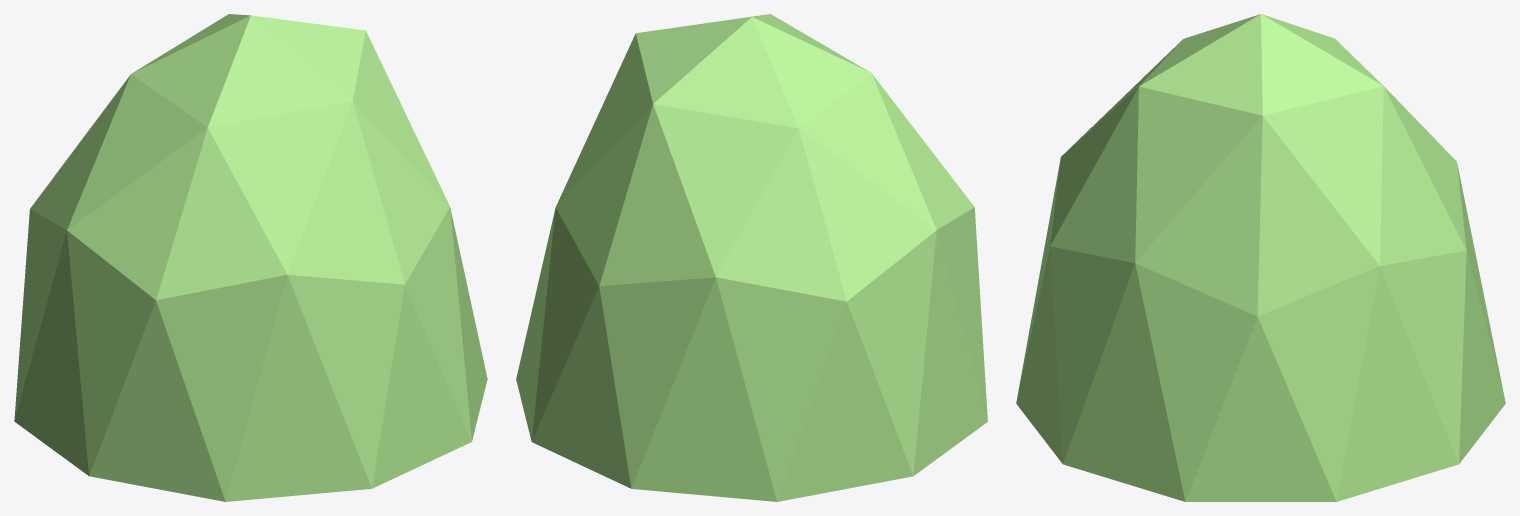
The model's file is Bush_h_m_04.fbx.
3 renders of one model, left to right at view 1: azimuth 30°, elevation 25°; view 2: azimuth 150°, elevation 25°; view 3: azimuth 270°, elevation 25°, orthographic.
Visible parts, largest first — view 1: Bush_h_m_04; view 2: Bush_h_m_04; view 3: Bush_h_m_04.
Part boxes in pixels (x1,y1,x2,y2): Bush_h_m_04: (14,14,487,501); Bush_h_m_04: (516,14,987,501); Bush_h_m_04: (1016,14,1505,501).
Size of the model in its own units: 117 by 108 by 123.
